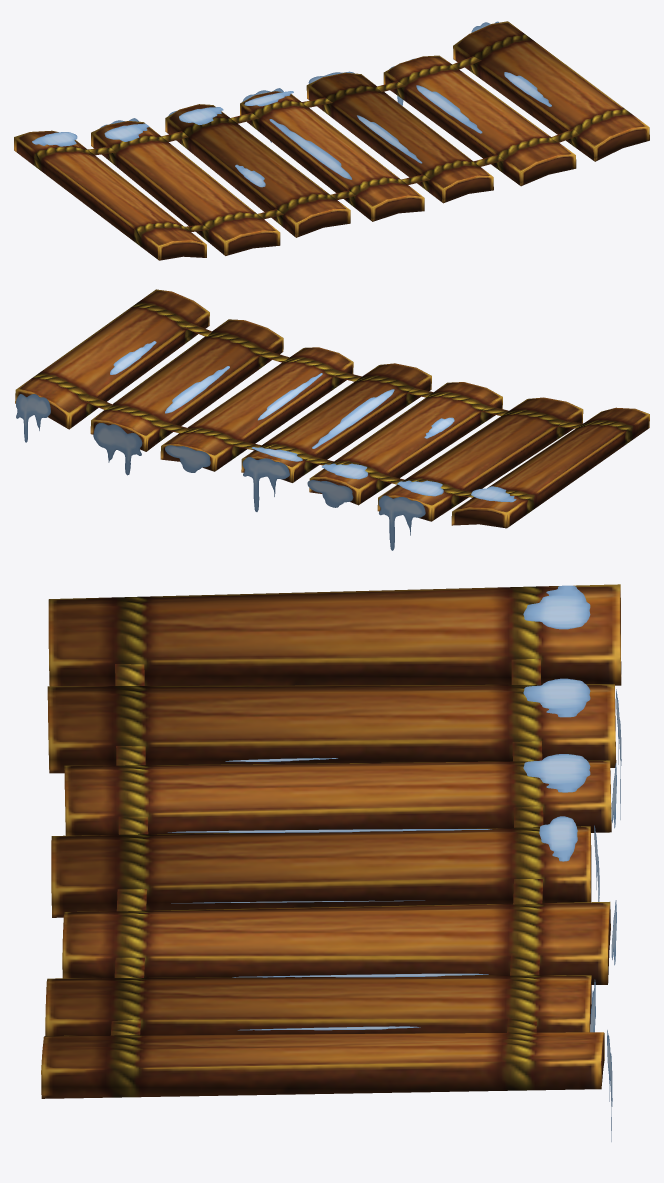
The model's file is muqiao.FBX.
3 renders of one model, top to bottom at view 1: azimuth 30°, elevation 25°; view 2: azimuth 150°, elevation 25°; view 3: azimuth 270°, elevation 25°, orthographic. The views are drawn at different scales.
Parts seen in each view (by area): view 1: muqiao; view 2: muqiao; view 3: muqiao.
Part boxes in pixels (x1=…): muqiao: x1=14, y1=21, x2=649, y2=260; muqiao: x1=15, y1=289, x2=649, y2=550; muqiao: x1=41, y1=584, x2=621, y2=1141.
Bounding box in the file's own units: 227 × 33.71 × 116.
